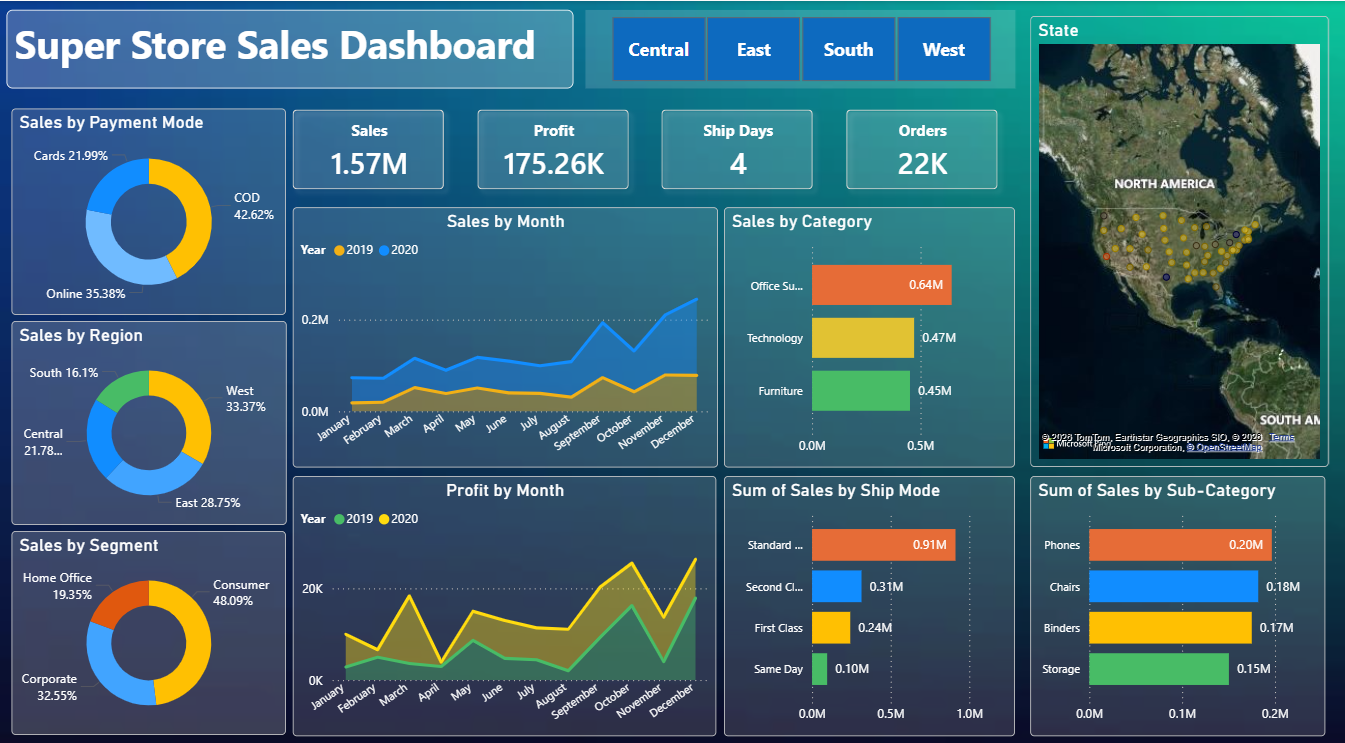

This screenshot's page, from the dashboard's own definition file:
{"tool":"powerbi","page":{"name":"Dashboard","canvas":[1301,720],"ordinal":0},"visuals":[{"type":"clusteredBarChart","fields":{"Category":["SuperStore_Sales_Dataset.Category"],"Y":["Sum(SuperStore_Sales_Dataset.Sales)"]},"box":[700,199,281,251],"z":0},{"type":"clusteredBarChart","fields":{"Category":["SuperStore_Sales_Dataset.Sub-Category"],"Y":["Sum(SuperStore_Sales_Dataset.Sales)"]},"box":[995,458,285,251],"z":1000},{"type":"clusteredBarChart","fields":{"Category":["SuperStore_Sales_Dataset.Ship Mode"],"Y":["Sum(SuperStore_Sales_Dataset.Sales)"]},"box":[700,458,281,251],"z":2000},{"type":"stackedAreaChart","title":"Sales by Month ","fields":{"Y":["Sum(SuperStore_Sales_Dataset.Sales)"],"Series":["SuperStore_Sales_Dataset.Order Date.Variation.Date Hierarchy.Year"],"Category":["SuperStore_Sales_Dataset.Order Date.Variation.Date Hierarchy.Month"]},"box":[283,199,410,251],"z":3000},{"type":"stackedAreaChart","title":"Profit by Month ","fields":{"Series":["SuperStore_Sales_Dataset.Order Date.Variation.Date Hierarchy.Year"],"Category":["SuperStore_Sales_Dataset.Order Date.Variation.Date Hierarchy.Month"],"Y":["Sum(SuperStore_Sales_Dataset.Profit)"]},"box":[283,458,409,251],"z":4000},{"type":"map","fields":{"Category":["SuperStore_Sales_Dataset.State"]},"box":[995,15,288,435],"z":5000},{"type":"donutChart","fields":{"Y":["Sum(SuperStore_Sales_Dataset.Sales)"],"Category":["SuperStore_Sales_Dataset.Segment"]},"box":[11.9,511.9,265,196.9],"z":6000},{"type":"donutChart","fields":{"Y":["Sum(SuperStore_Sales_Dataset.Sales)"],"Category":["SuperStore_Sales_Dataset.Region"]},"box":[11.9,308.6,265.2,196.7],"z":7000},{"type":"slicer","fields":{"Values":["SuperStore_Sales_Dataset.Region"]},"box":[565.8,8.4,415,76],"z":8000},{"type":"cardVisual","fields":{"Data":["Sum(SuperStore_Sales_Dataset.Sales)","Sum(SuperStore_Sales_Dataset.Profit)","Avg(SuperStore_Sales_Dataset.AvgDelivery)","Sum(SuperStore_Sales_Dataset.Quantity)"]},"box":[254.8,75.6,740,135.9],"z":9000},{"type":"textbox","box":[7.1,8.6,547.1,75.7],"z":10000},{"type":"donutChart","fields":{"Y":["Sum(SuperStore_Sales_Dataset.Sales)"],"Category":["SuperStore_Sales_Dataset.Payment Mode"]},"box":[11.9,103.8,265,199.4],"z":11000}]}

Visuals, with their boxes in screenshot pixels (x1, y1, x2, y2), scaled from the page's 1301x720 canvas onto the 1345x743 screenshot:
clusteredBarChart - SuperStore_Sales_Dataset.Category x Sum(SuperStore_Sales_Dataset.Sales): 724,205,1014,464
clusteredBarChart - SuperStore_Sales_Dataset.Sub-Category x Sum(SuperStore_Sales_Dataset.Sales): 1029,473,1323,732
clusteredBarChart - SuperStore_Sales_Dataset.Ship Mode x Sum(SuperStore_Sales_Dataset.Sales): 724,473,1014,732
"Sales by Month " stackedAreaChart: 293,205,716,464
"Profit by Month " stackedAreaChart: 293,473,715,732
map - SuperStore_Sales_Dataset.State: 1029,15,1326,464
donutChart - Sum(SuperStore_Sales_Dataset.Sales) x SuperStore_Sales_Dataset.Segment: 12,528,286,731
donutChart - Sum(SuperStore_Sales_Dataset.Sales) x SuperStore_Sales_Dataset.Region: 12,318,286,521
slicer - SuperStore_Sales_Dataset.Region: 585,9,1014,87
cardVisual - Sum(SuperStore_Sales_Dataset.Sales) x Sum(SuperStore_Sales_Dataset.Profit): 263,78,1028,218
textbox: 7,9,573,87
donutChart - Sum(SuperStore_Sales_Dataset.Sales) x SuperStore_Sales_Dataset.Payment Mode: 12,107,286,313
